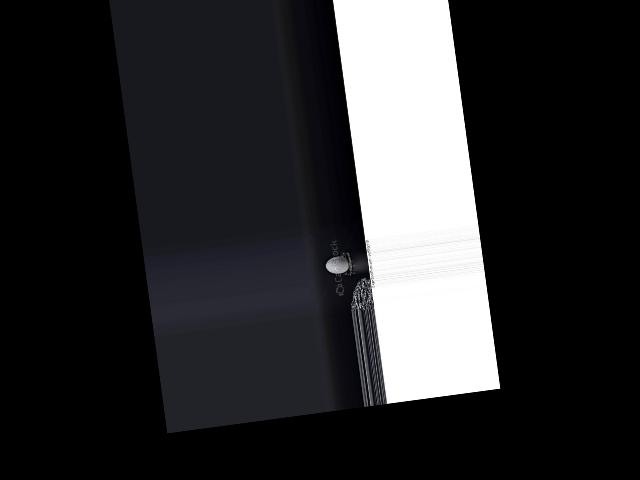egg: (325, 254, 350, 275)
